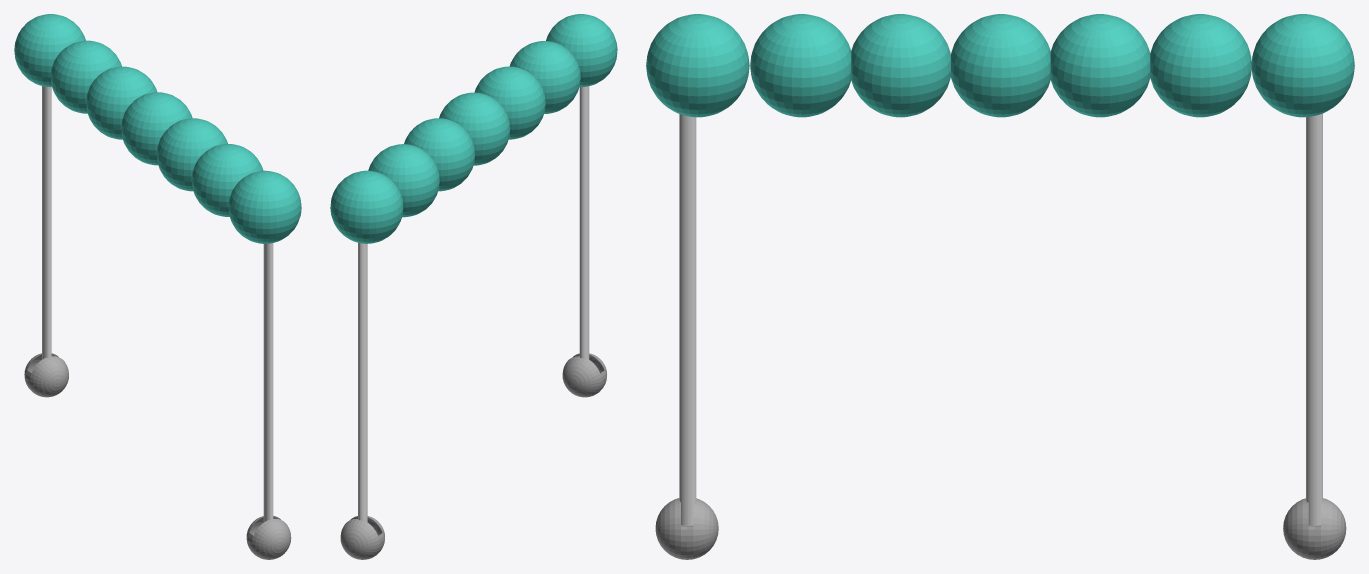
The picture shows the model from 3 angles, left to right: view 1: azimuth 30°, elevation 25°; view 2: azimuth 150°, elevation 25°; view 3: azimuth 270°, elevation 25°; orthographic projection. The views are drawn at different scales.
Visible parts, largest first — view 1: Sphere.002; view 2: Sphere.002; view 3: Sphere.002.
Part boxes in pixels (left/top/right/bottom): Sphere.002: left=14, top=14, right=301, bottom=559; Sphere.002: left=330, top=14, right=617, bottom=559; Sphere.002: left=646, top=14, right=1354, bottom=559.
Bounding box in the file's own units: 246 × 1411 × 1684.
